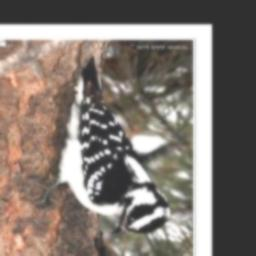Woodpecker: (36, 51, 171, 235)
